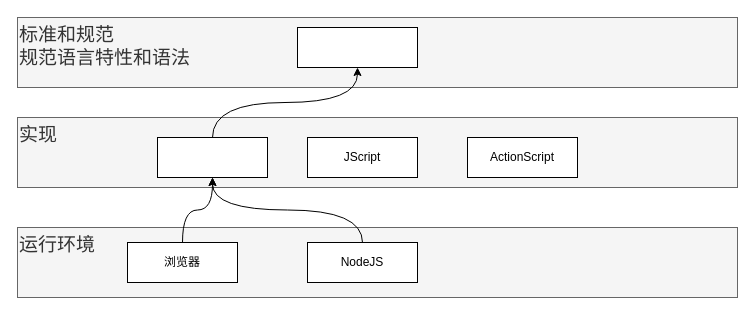
The diagram is 755 pixels wide and 315 high, and some of its shapes have lost their labels. The centre of each missing label's shape, as x and y in pixels:
ECMAScript: (x=357, y=47)
JavaScript: (x=212, y=157)
